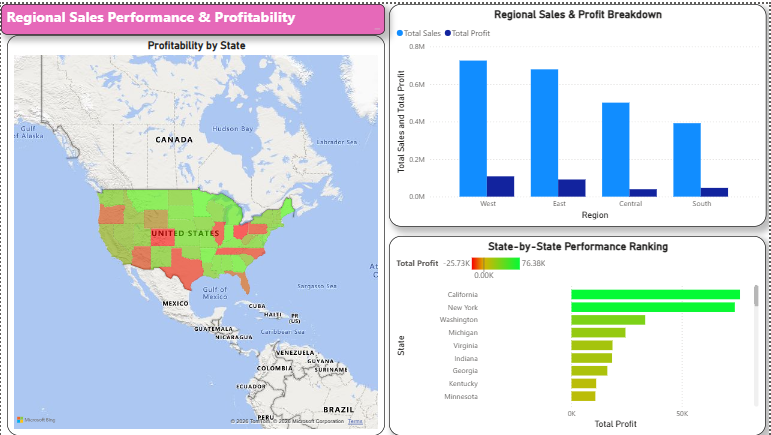

What the dashboard file says about the page in this screenshot:
{"tool":"powerbi","page":{"name":"Regional Performance & Efficiency","canvas":[1280,720],"ordinal":1},"visuals":[{"type":"filledMap","title":"Profitability by State","fields":{"Category":["Sample - Superstore.State"]},"box":[10,51.7,630,668.3],"z":0},{"type":"clusteredColumnChart","title":"Regional Sales & Profit Breakdown","fields":{"Category":["Sample - Superstore.Region"],"Y":["Sample - Superstore.Total Sales","Sample - Superstore.Total Profit"]},"box":[647.1,0,628.6,371.4],"z":1},{"type":"clusteredBarChart","title":"State-by-State Performance Ranking","fields":{"Category":["Sample - Superstore.State"],"Y":["Sample - Superstore.Total Profit"]},"box":[646.7,386.7,628.3,333.3],"z":2},{"type":"textbox","title":"Regional Sales Performance & Profitability","box":[0,0,640,51.4],"z":3}]}

Visuals, with their boxes in screenshot pixels (x1, y1, x2, y2), scaled from the page's 1280x720 canvas onto the 771x435 screenshot:
"Profitability by State" filledMap: [x1=6, y1=31, x2=386, y2=434]
"Regional Sales & Profit Breakdown" clusteredColumnChart: [x1=390, y1=0, x2=768, y2=224]
"State-by-State Performance Ranking" clusteredBarChart: [x1=390, y1=234, x2=768, y2=434]
"Regional Sales Performance & Profitability" textbox: [x1=0, y1=0, x2=386, y2=31]
